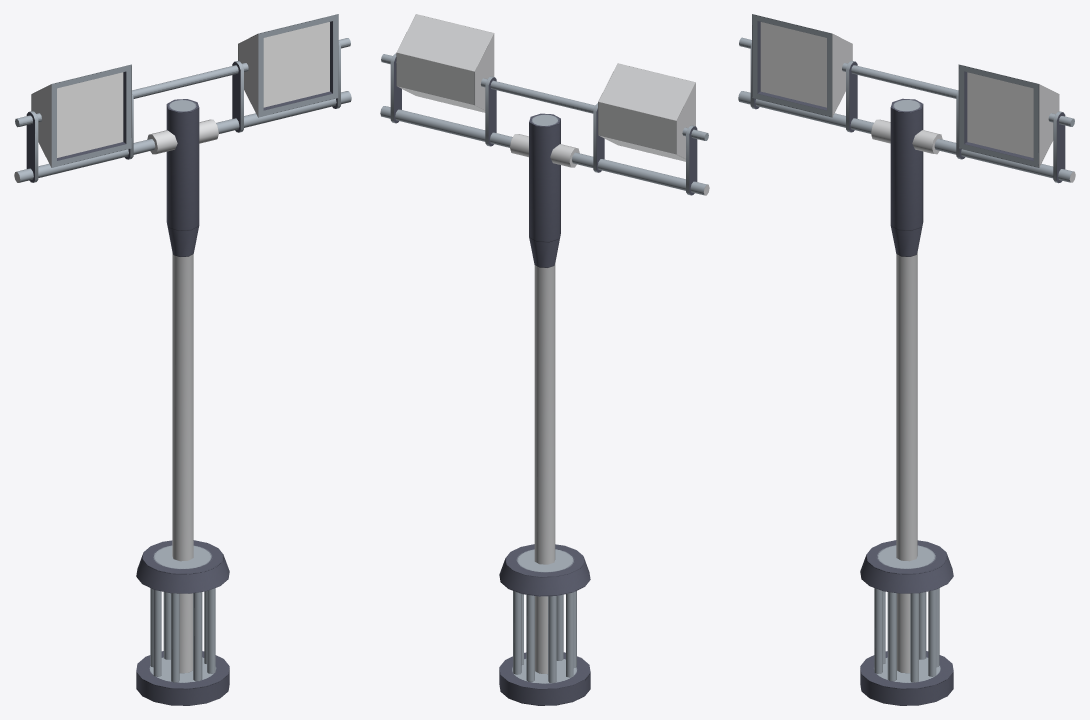
Rendered from Light_Exterior_01.FBX.
3 renders of one model, left to right at view 1: azimuth 30°, elevation 25°; view 2: azimuth 150°, elevation 25°; view 3: azimuth 330°, elevation 25°, orthographic. The views are drawn at different scales.
Parts seen in each view (by area): view 1: Light_Exterior_01, Light_Support; view 2: Light_Exterior_01, Light_Support; view 3: Light_Exterior_01, Light_Support.
Part boxes in pixels (bbox=[...]): Light_Exterior_01: bbox=[14, 91, 351, 705]; Light_Support: bbox=[15, 14, 350, 182]; Light_Exterior_01: bbox=[380, 106, 709, 705]; Light_Support: bbox=[381, 14, 708, 195]; Light_Exterior_01: bbox=[738, 91, 1075, 705]; Light_Support: bbox=[739, 14, 1074, 183].
Bounding box in the file's own units: 3 × 5.58 × 0.7395.
